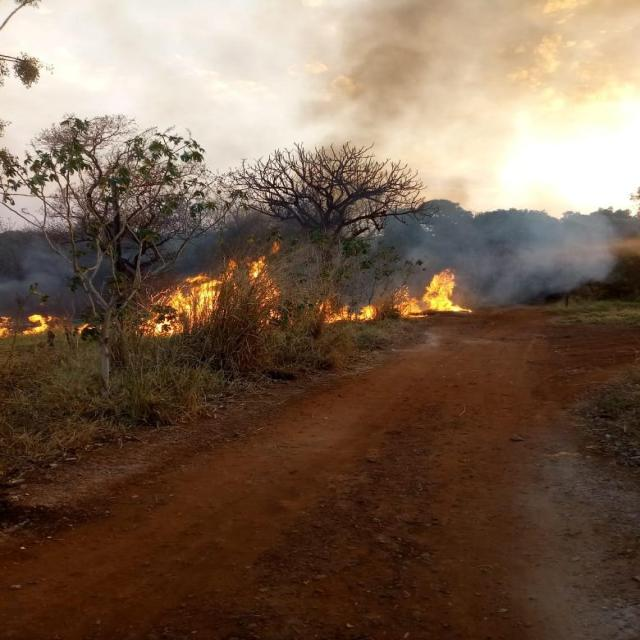fire: (144, 276, 218, 333), (383, 270, 469, 316), (319, 300, 379, 324), (0, 314, 56, 336)
smoke: (483, 223, 613, 290)
